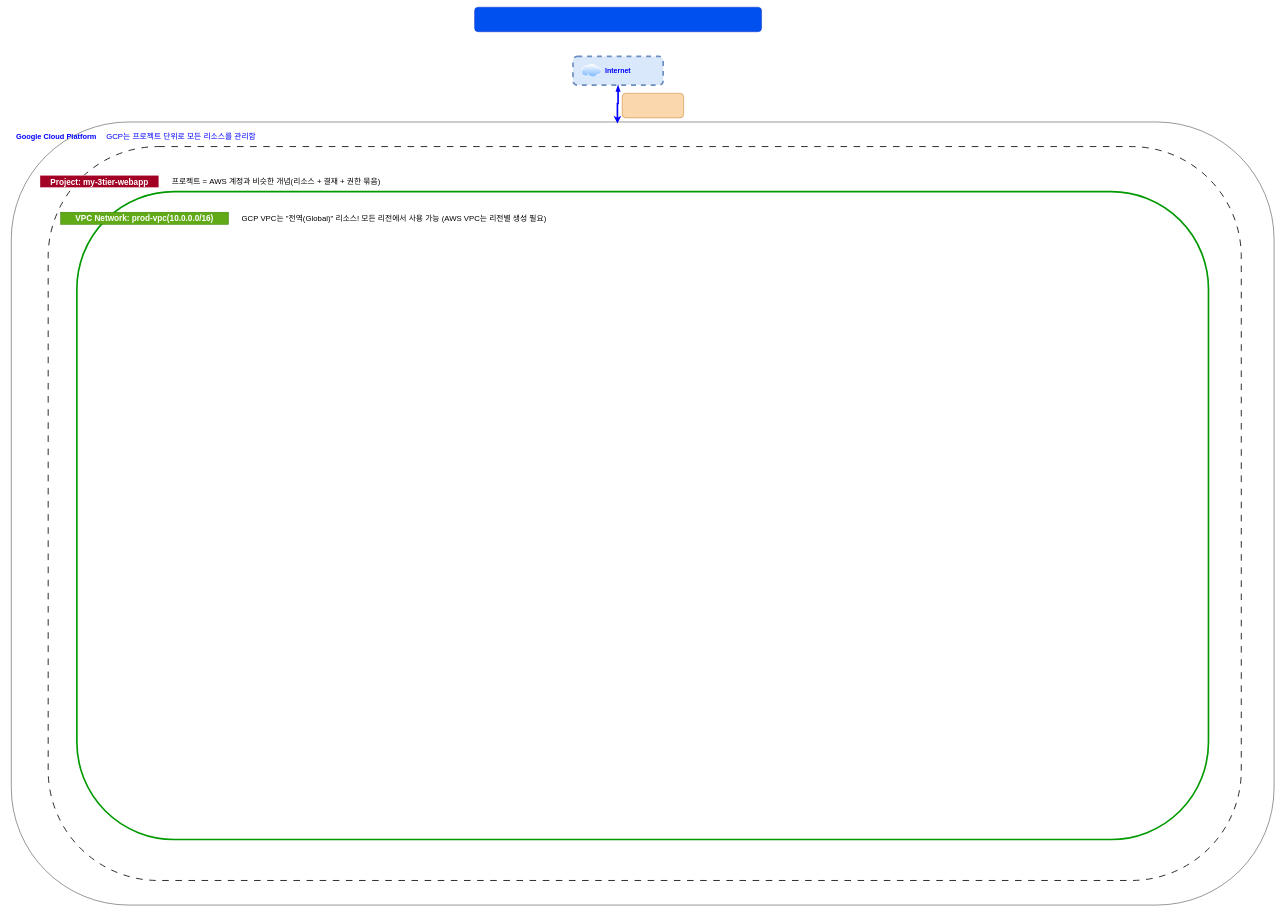
Some shapes in this 1281 by 912 pixel diagram are drawn without their labels. The shapes that lost their labels are listed below. From the top down, each one's centre as x and y in pixels, then its label:
At point (618, 19): "GCP 3 -Tier 네트워크 다이어그램".
At point (653, 105): "0.0.0.0/0 (인터넷 게이트웨이)".
